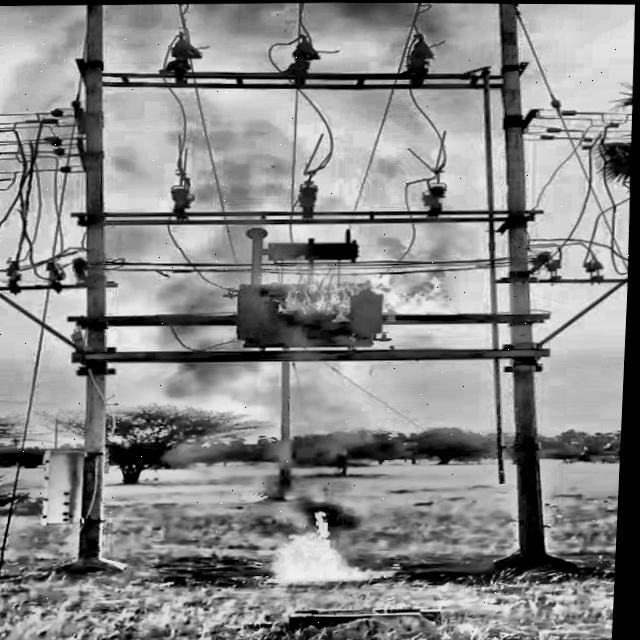Fire: (258, 241, 424, 341), (254, 499, 409, 597)
